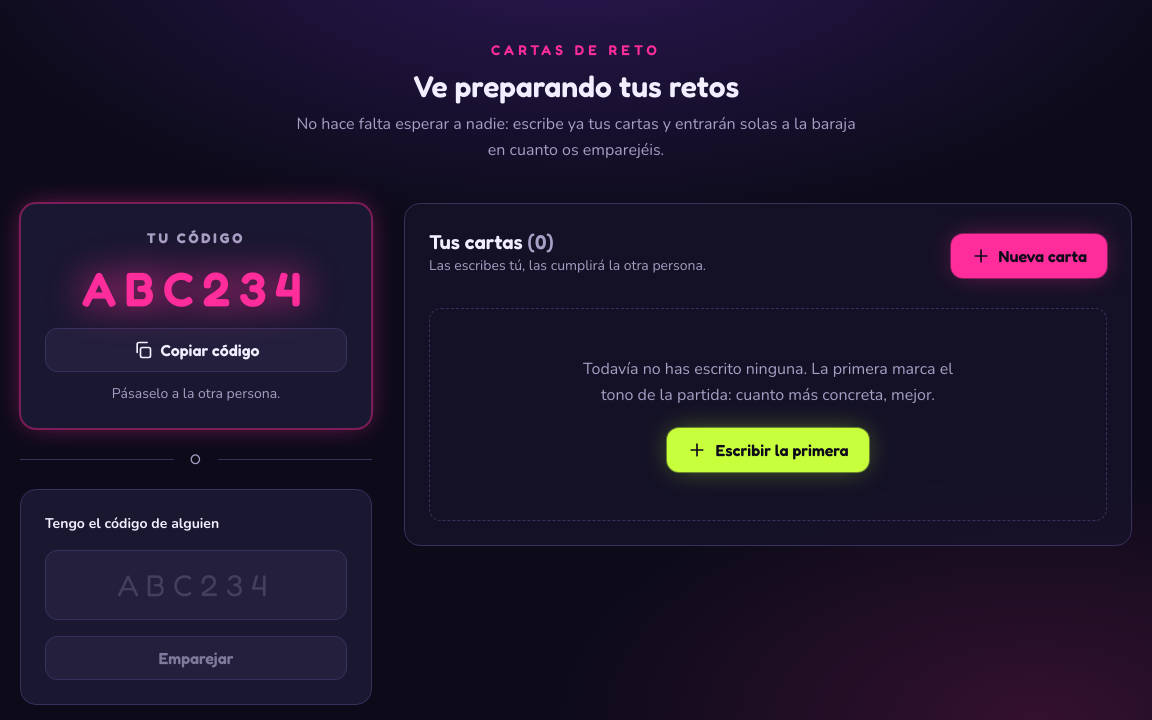
Test: pantalla de emparejamiento › mantiene Emparejar deshabilitado hasta tener los 6 caracteres
Expected: the button "Emparejar" is disabled, [45,636,347,680]
Type "abc23" into the field labelled "Tengo el código de alguien" at [196, 585], box [45,550,347,620]
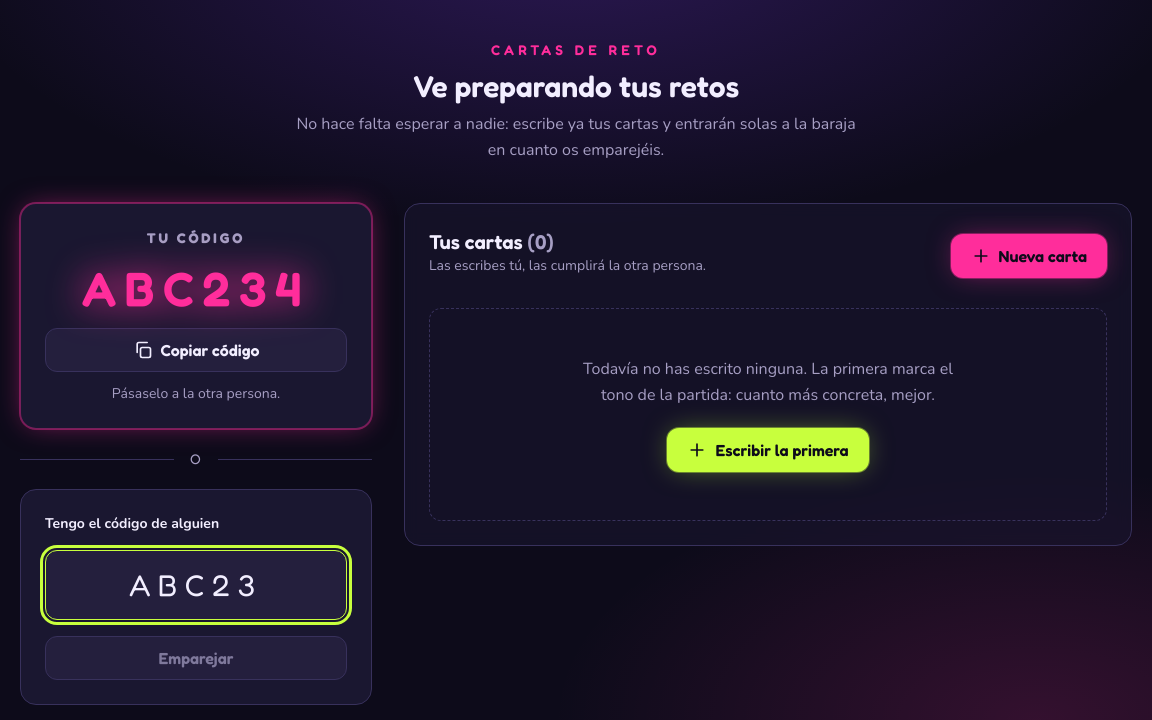
Expected: the button "Emparejar" is disabled, [45,636,347,680]
Type "4" into the field labelled "Tengo el código de alguien" at [196, 585], box [45,550,347,620]
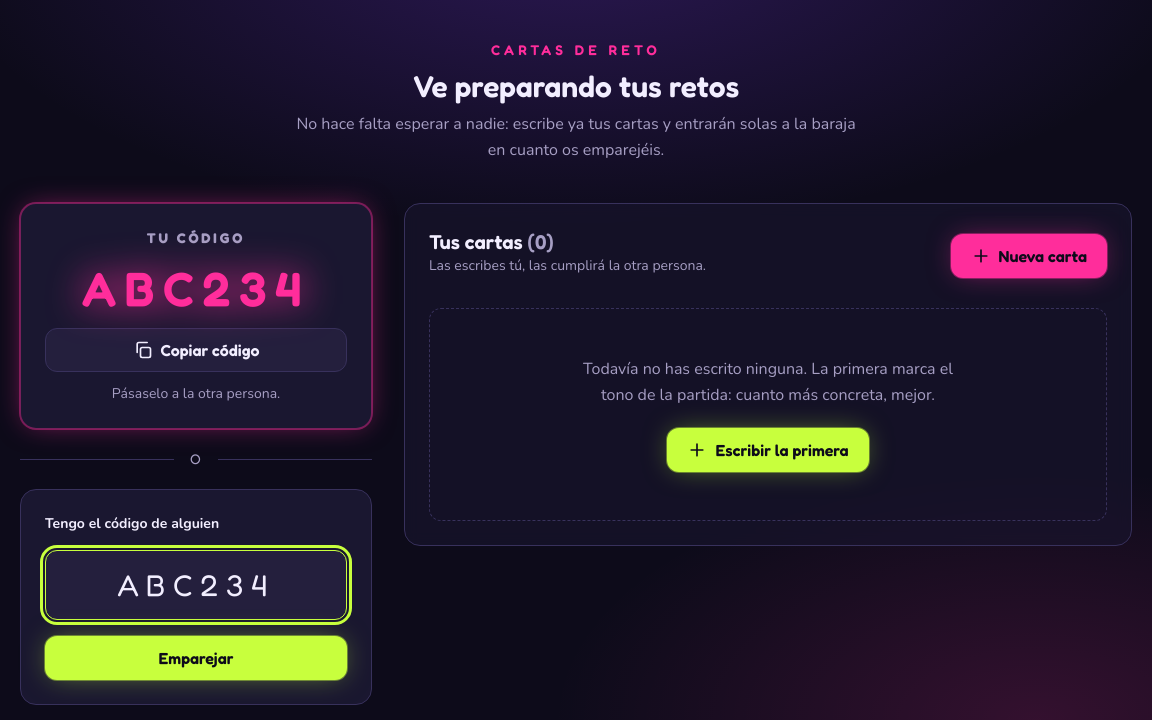
Now the button "Emparejar" is enabled, box [45,636,347,680]
